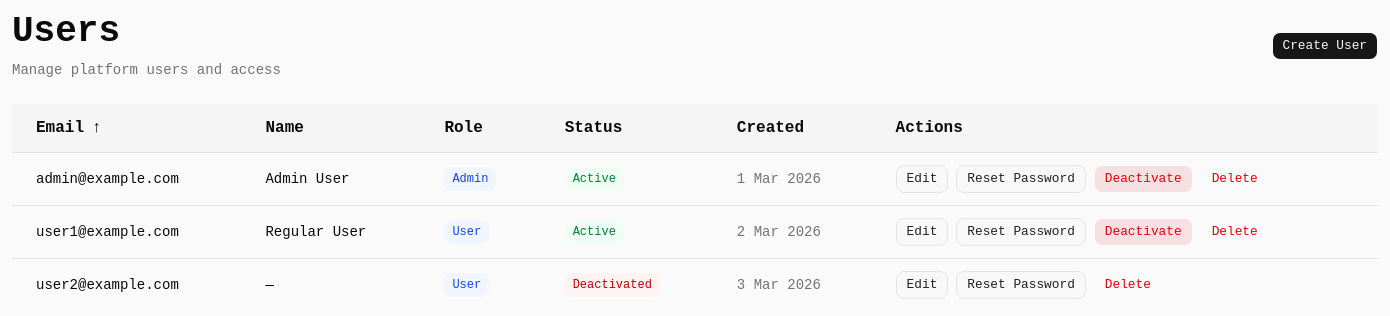
Scenario: SettingsUsers › sorting › sorts users by email when clicking Email header
Expected: the text "admin@example.com" is shown, [12,152,242,206]
What coordinates should you click on to do the following:
click the button "Email ↑"
I would click on:
 (69, 128)
Its box is [36,116,102,140].
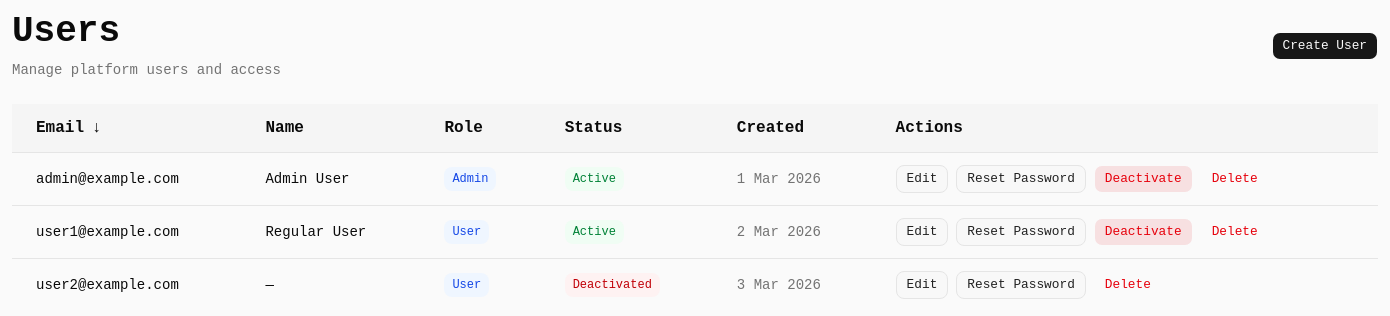
Expected: the button "Email ↓" is shown, [36,116,102,140]
